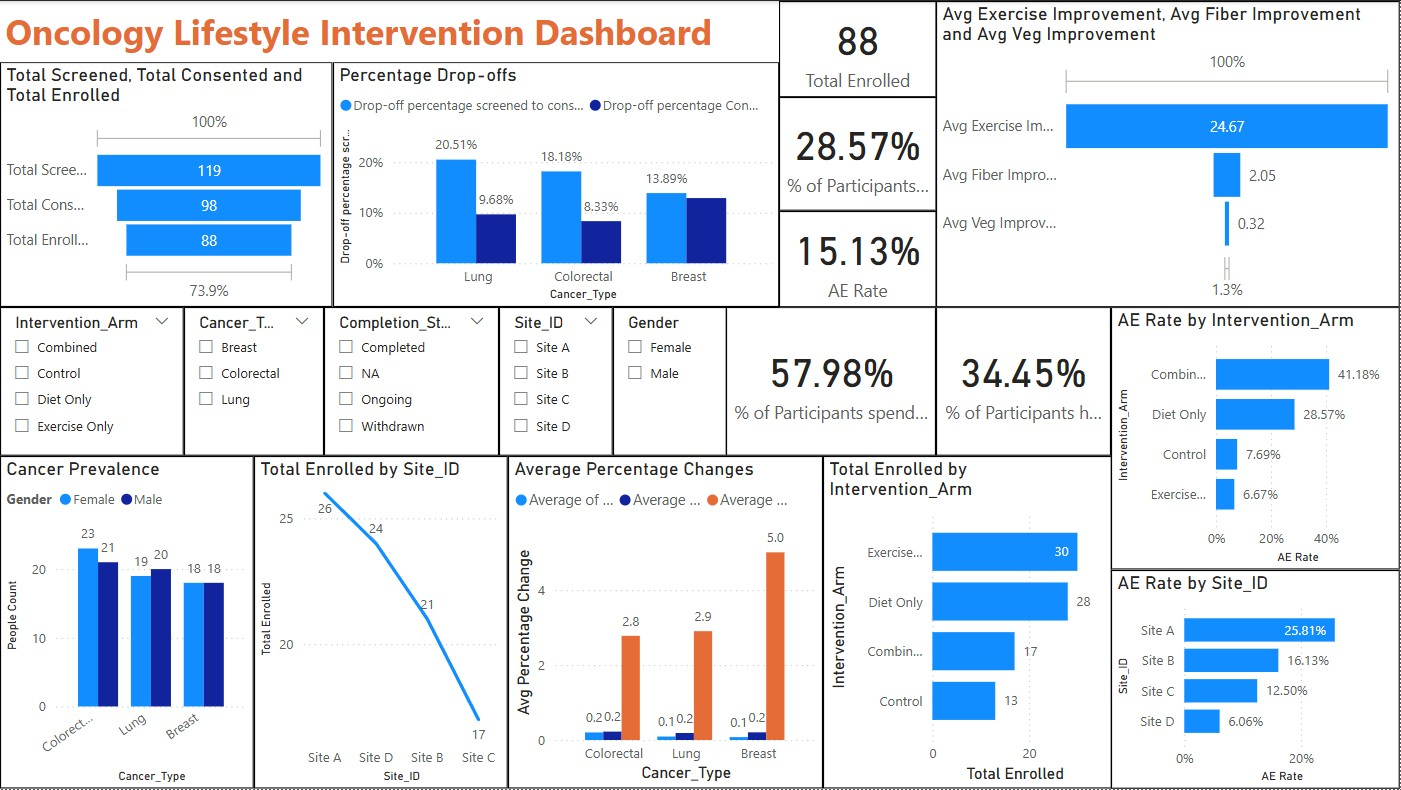

The page's visual inventory and layout, read from the dashboard file:
{"tool":"powerbi","page":{"name":"Page 1","canvas":[1280,720],"ordinal":0},"visuals":[{"type":"funnel","fields":{"Y":["Technical Interview - Data Set.Total Screened","Technical Interview - Data Set.Total Consented","Technical Interview - Data Set.Total Enrolled"]},"box":[0,56,304,224],"z":0},{"type":"clusteredColumnChart","title":"Percentage Drop-offs","fields":{"Y":["Technical Interview - Data Set.Drop-off percentage screened to consented","Technical Interview - Data Set.Drop-off percentage Consented to Enrolled"],"Category":["Technical Interview - Data Set.Cancer_Type"]},"box":[304,56,408,224],"z":1000},{"type":"clusteredColumnChart","title":"Cancer Prevalence","fields":{"Y":["CountNonNull(Technical Interview - Data Set.Subject_ID)"],"Category":["Technical Interview - Data Set.Cancer_Type"],"Series":["Technical Interview - Data Set.Gender"]},"box":[0,416,232,304],"z":2000},{"type":"lineChart","fields":{"Y":["Technical Interview - Data Set.Total Enrolled"],"Category":["Technical Interview - Data Set.Site_ID"]},"box":[232,416,232,304],"z":3000},{"type":"textbox","box":[0,0,712,56],"z":4000},{"type":"slicer","fields":{"Values":["Technical Interview - Data Set.Gender"]},"box":[560,280,104,136],"z":5000},{"type":"slicer","fields":{"Values":["Technical Interview - Data Set.Cancer_Type"]},"box":[168,280,128,136],"z":6000},{"type":"clusteredColumnChart","title":"Average Percentage Changes","fields":{"Y":["Avg(Technical Interview - Data Set.PercentageChangeinVegetableIntake)","Avg(Technical Interview - Data Set.PercentageChangeInFiberIntake)","Avg(Technical Interview - Data Set.PercentageChangeInExerceiseMinutes)"],"Category":["Technical Interview - Data Set.Cancer_Type"]},"box":[464,416,288,304],"z":7000},{"type":"slicer","fields":{"Values":["Technical Interview - Data Set.Site_ID"]},"box":[456,280,104,136],"z":8000},{"type":"slicer","fields":{"Values":["Technical Interview - Data Set.Intervention_Arm"]},"box":[0,280,168,136],"z":9000},{"type":"slicer","fields":{"Values":["Technical Interview - Data Set.Completion_Status"]},"box":[296,280,160,136],"z":10000},{"type":"card","fields":{"Values":["Technical Interview - Data Set.Total Enrolled"]},"box":[712,0,144,88],"z":11000},{"type":"barChart","fields":{"Y":["Technical Interview - Data Set.Total Enrolled"],"Category":["Technical Interview - Data Set.Intervention_Arm"]},"box":[752,416,264,304],"z":12000},{"type":"card","fields":{"Values":["Technical Interview - Data Set.% of Participants having veggies > 20%"]},"box":[712,88,144,104],"z":13000},{"type":"card","fields":{"Values":["Technical Interview - Data Set.% of Participants spending time > 30 min/week"]},"box":[664,280,192,136],"z":14000},{"type":"card","fields":{"Values":["Technical Interview - Data Set.% of Participants having Fibre > 25%"]},"box":[856,280,160,136],"z":15000},{"type":"card","fields":{"Values":["Technical Interview - Data Set.AE Rate"]},"box":[712,192,144,88],"z":16000},{"type":"clusteredBarChart","fields":{"Y":["Technical Interview - Data Set.AE Rate"],"Category":["Technical Interview - Data Set.Intervention_Arm"]},"box":[1016,280,264,240],"z":17000},{"type":"clusteredBarChart","fields":{"Y":["Technical Interview - Data Set.AE Rate"],"Category":["Technical Interview - Data Set.Site_ID"]},"box":[1016,520,264,200],"z":18000},{"type":"funnel","fields":{"Y":["Technical Interview - Data Set.Avg Exercise Improvement","Technical Interview - Data Set.Avg Fiber Improvement","Technical Interview - Data Set.Avg Veg Improvement"]},"box":[856,0,424,280],"z":19000}]}

Visuals, with their boxes in screenshot pixels (x1, y1, x2, y2), scaled from the page's 1280x720 canvas onto the 1401x790 screenshot:
funnel - Technical Interview - Data Set.Total Screened x Technical Interview - Data Set.Total Consented: x1=0, y1=61, x2=333, y2=307
"Percentage Drop-offs" clusteredColumnChart: x1=333, y1=61, x2=779, y2=307
"Cancer Prevalence" clusteredColumnChart: x1=0, y1=456, x2=254, y2=789
lineChart - Technical Interview - Data Set.Total Enrolled x Technical Interview - Data Set.Site_ID: x1=254, y1=456, x2=508, y2=789
textbox: x1=0, y1=0, x2=779, y2=61
slicer - Technical Interview - Data Set.Gender: x1=613, y1=307, x2=727, y2=456
slicer - Technical Interview - Data Set.Cancer_Type: x1=184, y1=307, x2=324, y2=456
"Average Percentage Changes" clusteredColumnChart: x1=508, y1=456, x2=823, y2=789
slicer - Technical Interview - Data Set.Site_ID: x1=499, y1=307, x2=613, y2=456
slicer - Technical Interview - Data Set.Intervention_Arm: x1=0, y1=307, x2=184, y2=456
slicer - Technical Interview - Data Set.Completion_Status: x1=324, y1=307, x2=499, y2=456
card - Technical Interview - Data Set.Total Enrolled: x1=779, y1=0, x2=937, y2=97
barChart - Technical Interview - Data Set.Total Enrolled x Technical Interview - Data Set.Intervention_Arm: x1=823, y1=456, x2=1112, y2=789
card - Technical Interview - Data Set.% of Participants having veggies > 20%: x1=779, y1=97, x2=937, y2=211
card - Technical Interview - Data Set.% of Participants spending time > 30 min/week: x1=727, y1=307, x2=937, y2=456
card - Technical Interview - Data Set.% of Participants having Fibre > 25%: x1=937, y1=307, x2=1112, y2=456
card - Technical Interview - Data Set.AE Rate: x1=779, y1=211, x2=937, y2=307
clusteredBarChart - Technical Interview - Data Set.AE Rate x Technical Interview - Data Set.Intervention_Arm: x1=1112, y1=307, x2=1400, y2=571
clusteredBarChart - Technical Interview - Data Set.AE Rate x Technical Interview - Data Set.Site_ID: x1=1112, y1=571, x2=1400, y2=789
funnel - Technical Interview - Data Set.Avg Exercise Improvement x Technical Interview - Data Set.Avg Fiber Improvement: x1=937, y1=0, x2=1400, y2=307
